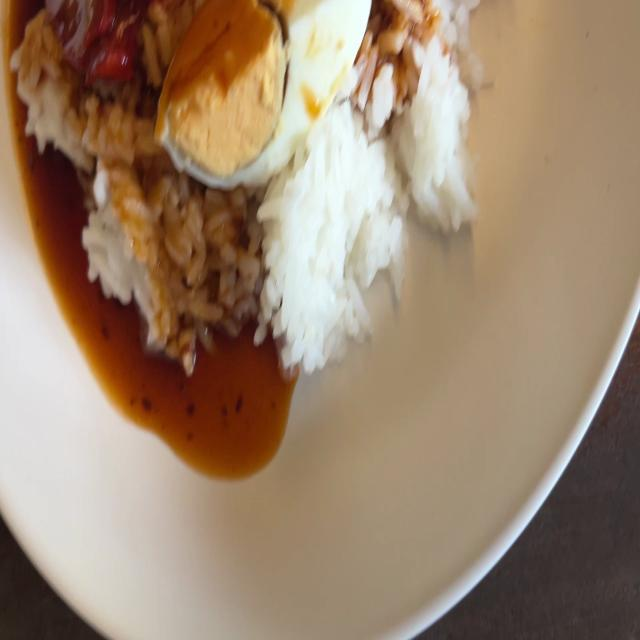red_pork_and_crispy_pork: (149, 0, 366, 179)
